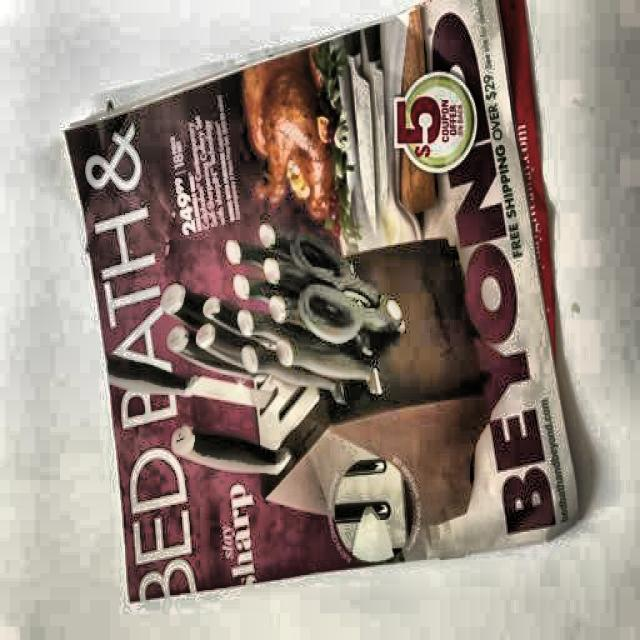paper: (76, 0, 578, 593)
